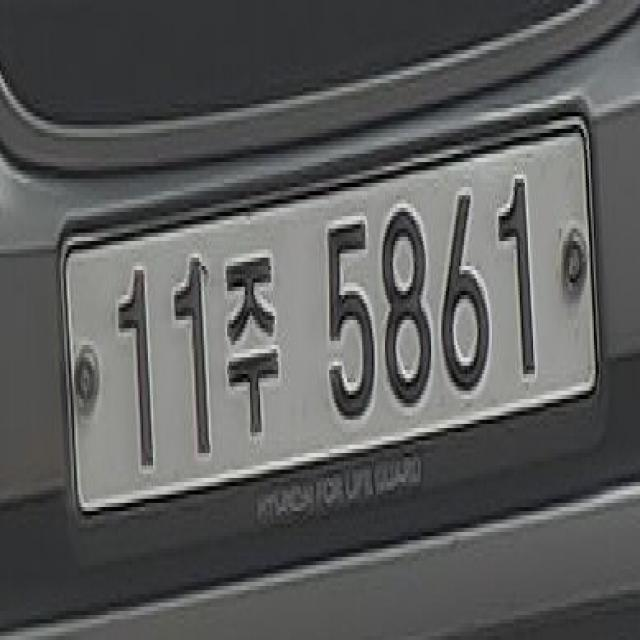1: (494, 168, 542, 390), (172, 246, 212, 466), (116, 262, 154, 479)
5: (326, 206, 374, 430)
6: (440, 187, 490, 400)
8: (382, 193, 437, 419)
ju: (223, 233, 285, 447)
license_plate: (43, 86, 612, 565)
